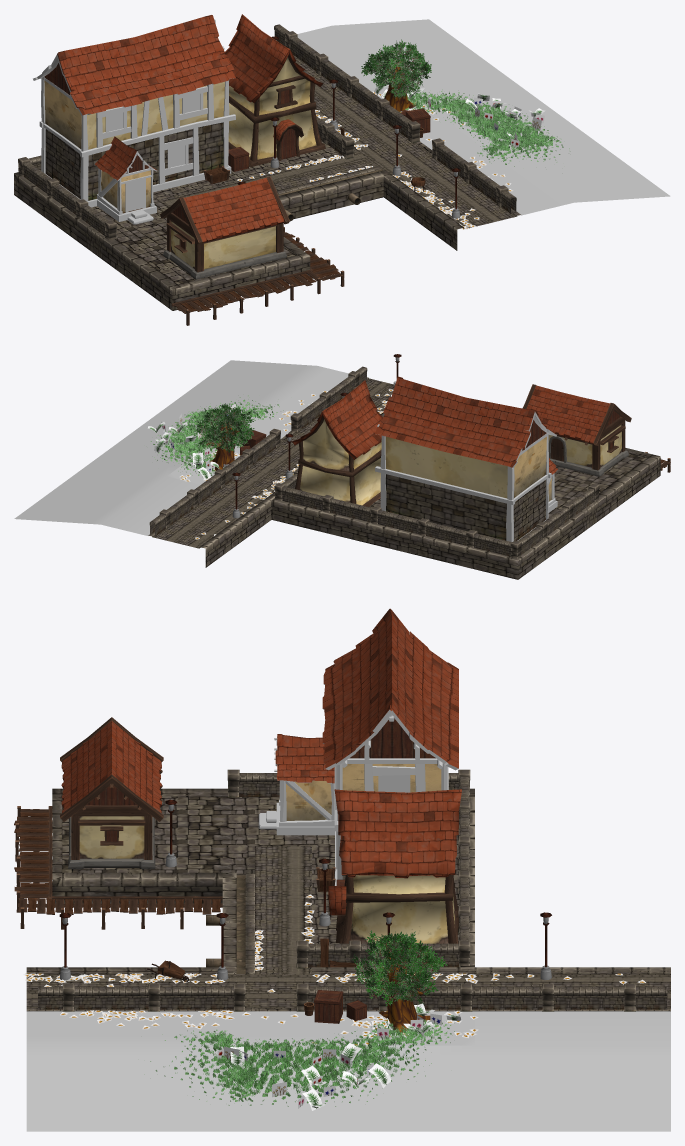
The model's file is dockNew2.fbx.
3 renders of one model, top to bottom at view 1: azimuth 30°, elevation 25°; view 2: azimuth 150°, elevation 25°; view 3: azimuth 270°, elevation 25°, orthographic. The views are drawn at different scales.
Parts seen in each view (by area): view 1: Cube.001, Cube.014, Cube.002, Cube.006, Cube.005, Plane.012, Plane.010, Cube.008, Cube.007, Cube.003, Cube.004, Plane.890 (+4 smaller); view 2: Cube.001, Cube.014, Cube.006, Cube.005, Cube.002, Cube.007, Cube.008, Cube.003, Plane.010, Plane.012, Plane.890, Cube.010 (+1 smaller); view 3: Cube.014, Cube.001, Cube.005, Cube.002, Cube.006, Plane.010, Cube.003, Plane.012, Cube.008, Cube.007, Plane.890, Cube.004 (+5 smaller).
Part boxes in pixels (left/top/right/bottom): Cube.001: left=33, top=14, right=520, bottom=325; Cube.014: left=297, top=19, right=670, bottom=215; Cube.002: left=161, top=55, right=516, bottom=228; Cube.006: left=14, top=30, right=516, bottom=310; Cube.005: left=14, top=24, right=516, bottom=295; Plane.012: left=405, top=89, right=570, bottom=166; Plane.010: left=237, top=84, right=545, bottom=229; Cube.008: left=361, top=39, right=431, bottom=98; Cube.007: left=18, top=31, right=508, bottom=240; Cube.003: left=116, top=218, right=296, bottom=284; Cube.004: left=91, top=140, right=432, bottom=230; Plane.890: left=400, top=91, right=557, bottom=161; Cube.001: left=148, top=376, right=670, bottom=541; Cube.014: left=14, top=360, right=348, bottom=535; Cube.006: left=150, top=372, right=660, bottom=579; Cube.005: left=149, top=366, right=660, bottom=565; Cube.002: left=152, top=378, right=394, bottom=548; Cube.007: left=159, top=371, right=599, bottom=558; Cube.008: left=196, top=403, right=254, bottom=453; Cube.003: left=554, top=453, right=646, bottom=502; Plane.010: left=147, top=389, right=393, bottom=539; Plane.012: left=150, top=395, right=283, bottom=475; Plane.890: left=156, top=397, right=279, bottom=473; Cube.010: left=240, top=410, right=620, bottom=455; Cube.014: left=26, top=1011, right=670, bottom=1131; Cube.001: left=14, top=608, right=670, bottom=1015; Cube.005: left=26, top=773, right=670, bottom=995; Cube.002: left=26, top=846, right=670, bottom=1008; Cube.006: left=38, top=782, right=667, bottom=1009; Plane.010: left=23, top=894, right=645, bottom=1110; Cube.003: left=62, top=796, right=254, bottom=872; Plane.012: left=144, top=1021, right=454, bottom=1106; Cube.008: left=351, top=930, right=447, bottom=1006; Cube.007: left=62, top=769, right=635, bottom=1011; Plane.890: left=162, top=1019, right=452, bottom=1104; Cube.004: left=222, top=797, right=459, bottom=1011.
Size of the model in its own units: 3191 by 1050 by 2783.
